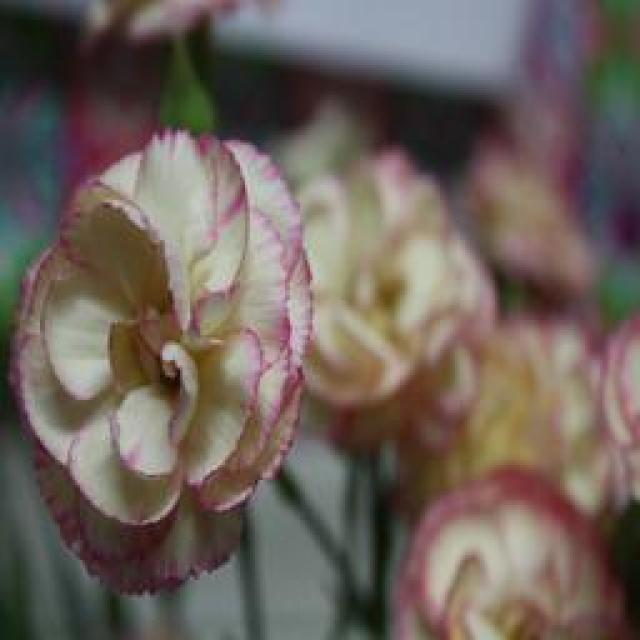carnation: (0, 125, 329, 580)
